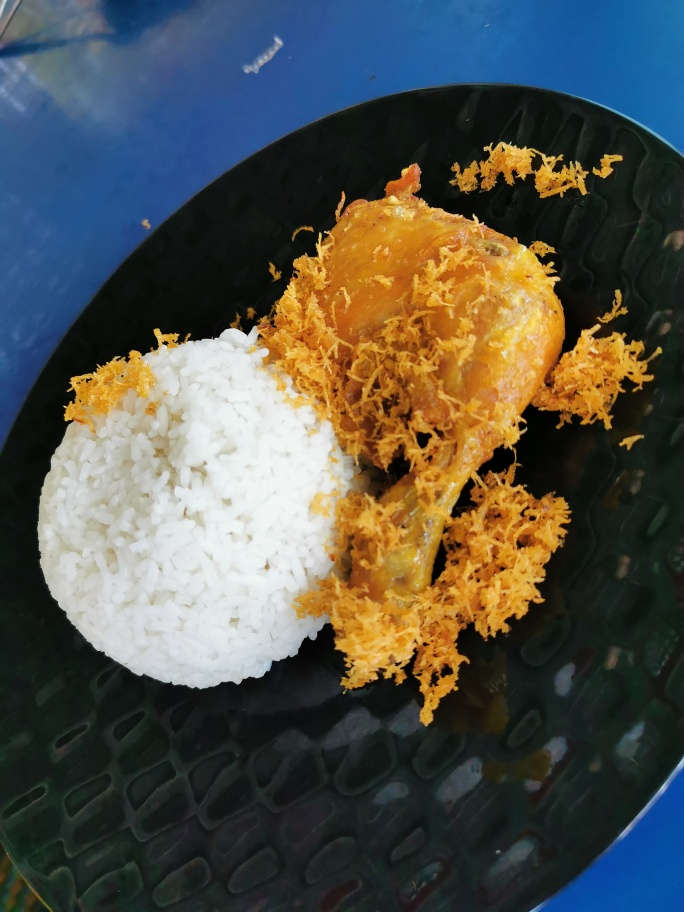ayam goreng: (265, 150, 603, 704)
nasi putih: (34, 317, 359, 683)
